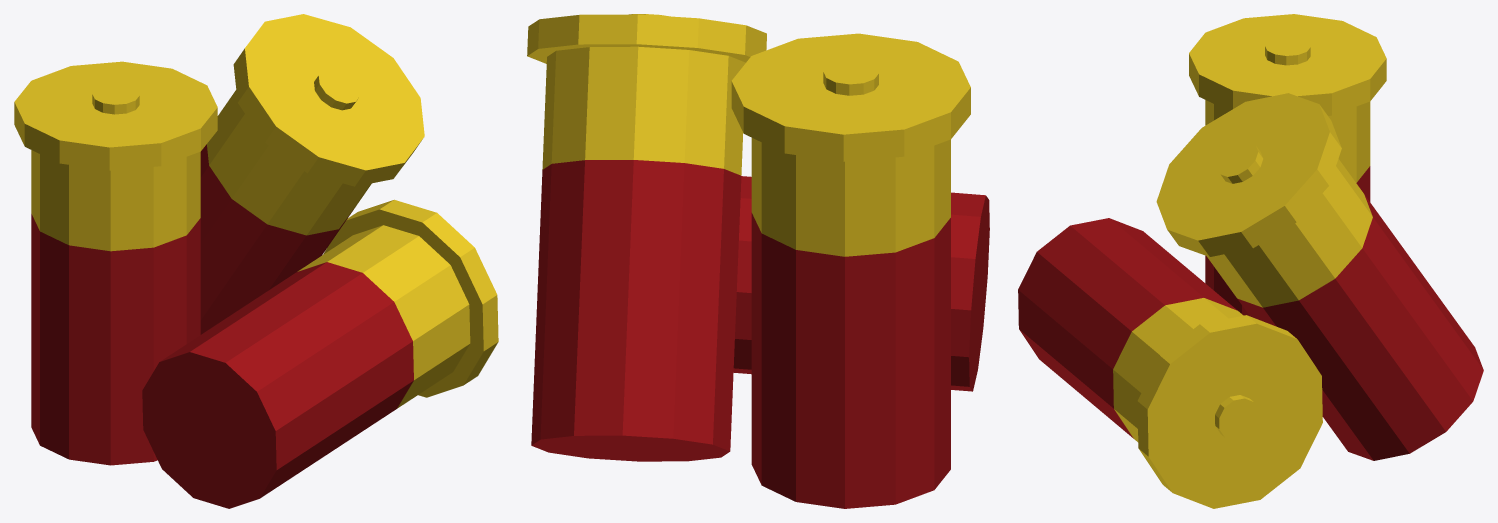
File: BulletAmmoBox 1.fbx
The picture shows the model from 3 angles, left to right: view 1: azimuth 30°, elevation 25°; view 2: azimuth 150°, elevation 25°; view 3: azimuth 270°, elevation 25°; orthographic projection. The views are drawn at different scales.
Visible parts, largest first — view 1: BulletAmmoBox; view 2: BulletAmmoBox; view 3: BulletAmmoBox.
Boxes of the visible parts, box(x1,y1,x2,y2) form: BulletAmmoBox: box(14, 14, 498, 508); BulletAmmoBox: box(527, 14, 989, 508); BulletAmmoBox: box(1018, 14, 1483, 508).
Bounding box in the file's own units: 543 × 475 × 564.
